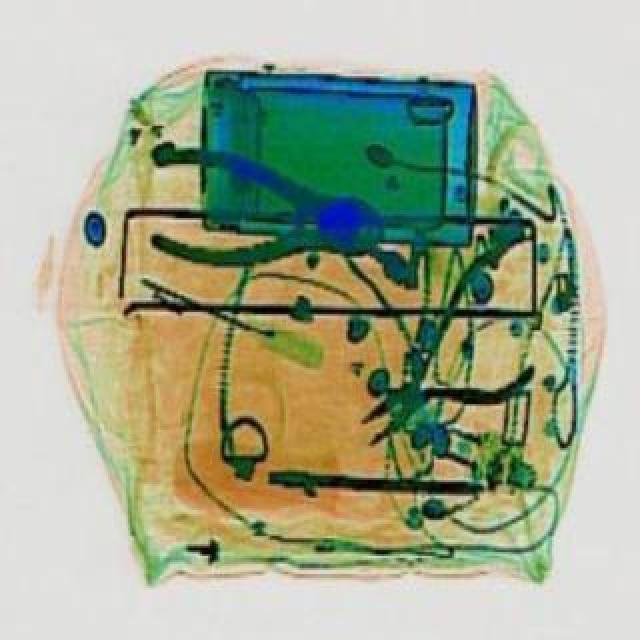wrench: (322, 232, 594, 476), (140, 138, 392, 282)
